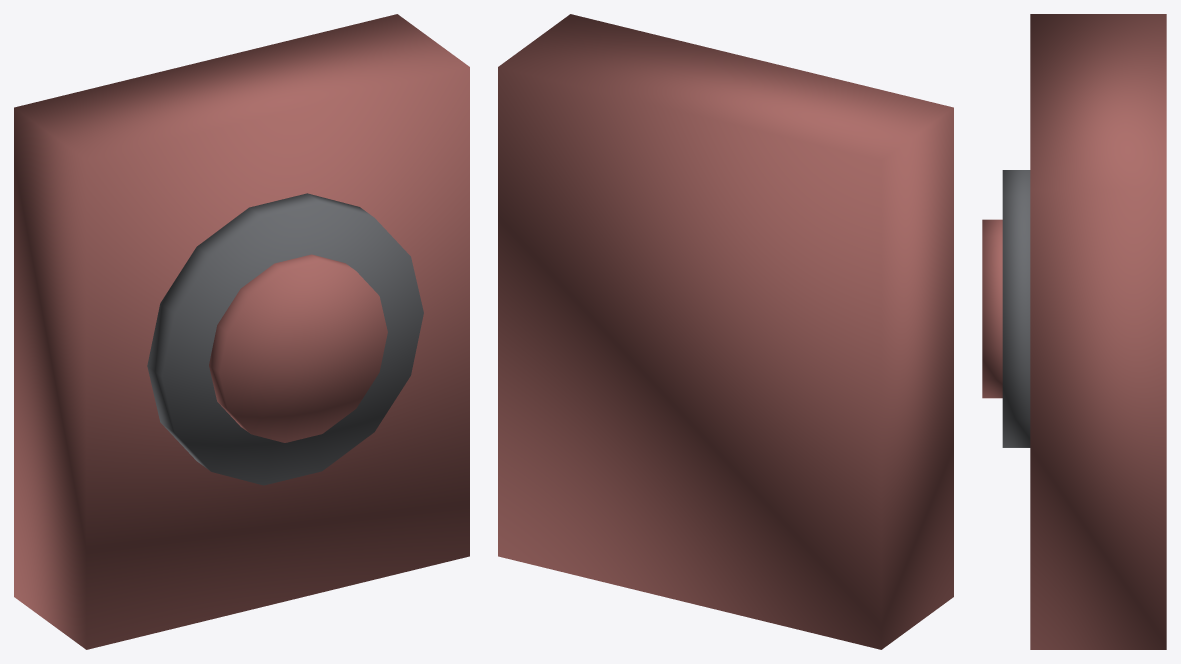
The model's file is fire_hose_rack__deep.glb.
The picture shows the model from 3 angles, left to right: view 1: azimuth 30°, elevation 25°; view 2: azimuth 150°, elevation 25°; view 3: azimuth 270°, elevation 25°; orthographic projection. The views are drawn at different scales.
Parts seen in each view (by area): view 1: world; view 2: world; view 3: world.
Boxes of the visible parts, x1=… form: world: x1=14, y1=14, x2=469, y2=649; world: x1=498, y1=14, x2=953, y2=649; world: x1=982, y1=14, x2=1166, y2=649.
Size of the model in its own units: 0.82 by 1 by 0.363.
